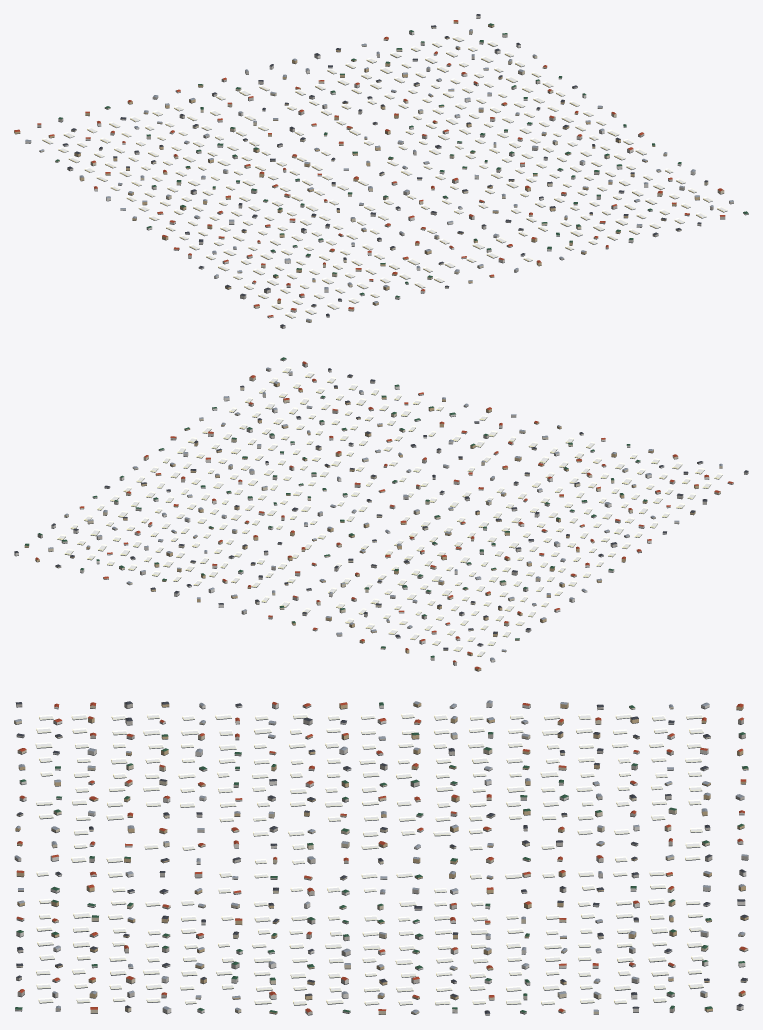
The model's file is buildings_T_E02_S03.glb.
3 renders of one model, top to bottom at view 1: azimuth 30°, elevation 25°; view 2: azimuth 150°, elevation 25°; view 3: azimuth 270°, elevation 25°, orthographic. The views are drawn at different scales.
Parts seen in each view (by area): view 1: T_E02_S03_roofs_agri_greenhouse_arch, T_E02_S03_slope_seating_foundations, T_E02_S03_walls_wall_french_ochre_villa, T_E02_S03_walls_wall_pastel_sand_gray, T_E02_S03_walls_wall_modern_warm_white, T_E02_S03_walls_wall_dalat_cream_stucco, T_E02_S03_roofs_roof_terracotta_gable, T_E02_S03_roofs_roof_zinc_silver_gable, T_E02_S03_roofs_roof_slate_French_villa_hip, T_E02_S03_roofs_roof_pine_green_hip; view 2: T_E02_S03_roofs_agri_greenhouse_arch, T_E02_S03_slope_seating_foundations, T_E02_S03_walls_wall_french_ochre_villa, T_E02_S03_walls_wall_pastel_sand_gray, T_E02_S03_walls_wall_modern_warm_white, T_E02_S03_walls_wall_dalat_cream_stucco, T_E02_S03_roofs_roof_terracotta_gable, T_E02_S03_roofs_roof_zinc_silver_gable, T_E02_S03_roofs_roof_slate_French_villa_hip, T_E02_S03_roofs_roof_pine_green_hip; view 3: T_E02_S03_roofs_agri_greenhouse_arch, T_E02_S03_slope_seating_foundations, T_E02_S03_walls_wall_french_ochre_villa, T_E02_S03_walls_wall_pastel_sand_gray, T_E02_S03_walls_wall_dalat_cream_stucco, T_E02_S03_walls_wall_modern_warm_white, T_E02_S03_roofs_roof_terracotta_gable, T_E02_S03_roofs_roof_zinc_silver_gable, T_E02_S03_roofs_roof_slate_French_villa_hip, T_E02_S03_roofs_roof_pine_green_hip.
Boxes of the visible parts, <box> form: T_E02_S03_roofs_agri_greenhouse_arch: <box>42,35,727,317</box>; T_E02_S03_slope_seating_foundations: <box>14,17,748,328</box>; T_E02_S03_walls_wall_french_ochre_villa: <box>14,21,699,305</box>; T_E02_S03_walls_wall_pastel_sand_gray: <box>37,34,748,328</box>; T_E02_S03_walls_wall_modern_warm_white: <box>25,15,695,317</box>; T_E02_S03_walls_wall_dalat_cream_stucco: <box>39,26,724,322</box>; T_E02_S03_roofs_roof_terracotta_gable: <box>14,20,725,316</box>; T_E02_S03_roofs_roof_zinc_silver_gable: <box>25,29,733,320</box>; T_E02_S03_roofs_roof_slate_French_villa_hip: <box>63,14,707,326</box>; T_E02_S03_roofs_roof_pine_green_hip: <box>55,23,748,297</box>; T_E02_S03_roofs_agri_greenhouse_arch: <box>57,367,722,656</box>; T_E02_S03_slope_seating_foundations: <box>14,359,748,671</box>; T_E02_S03_walls_wall_french_ochre_villa: <box>24,383,698,671</box>; T_E02_S03_walls_wall_pastel_sand_gray: <box>37,358,748,665</box>; T_E02_S03_walls_wall_modern_warm_white: <box>14,386,733,661</box>; T_E02_S03_walls_wall_dalat_cream_stucco: <box>48,375,722,651</box>; T_E02_S03_roofs_roof_terracotta_gable: <box>35,361,733,669</box>; T_E02_S03_roofs_roof_zinc_silver_gable: <box>48,367,722,660</box>; T_E02_S03_roofs_roof_slate_French_villa_hip: <box>14,368,748,649</box>; T_E02_S03_roofs_roof_pine_green_hip: <box>24,357,647,657</box>; T_E02_S03_roofs_agri_greenhouse_arch: <box>35,713,703,1004</box>; T_E02_S03_slope_seating_foundations: <box>14,705,748,1015</box>; T_E02_S03_walls_wall_french_ochre_villa: <box>15,703,748,1013</box>; T_E02_S03_walls_wall_pastel_sand_gray: <box>14,703,748,1014</box>; T_E02_S03_walls_wall_dalat_cream_stucco: <box>14,705,748,1014</box>; T_E02_S03_walls_wall_modern_warm_white: <box>16,702,746,1013</box>; T_E02_S03_roofs_roof_terracotta_gable: <box>16,702,747,1012</box>; T_E02_S03_roofs_roof_zinc_silver_gable: <box>14,700,747,1013</box>; T_E02_S03_roofs_roof_slate_French_villa_hip: <box>15,701,748,1013</box>; T_E02_S03_roofs_roof_pine_green_hip: <box>15,702,748,1012</box>.
Bounding box in the file's own units: 1793 × 28 × 1792.
